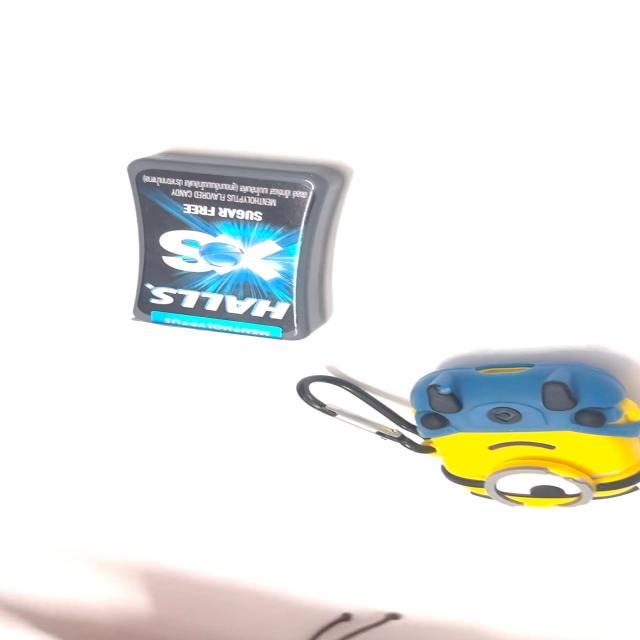airpod minion: (275, 355, 640, 517)
mint hall: (111, 146, 360, 345)
